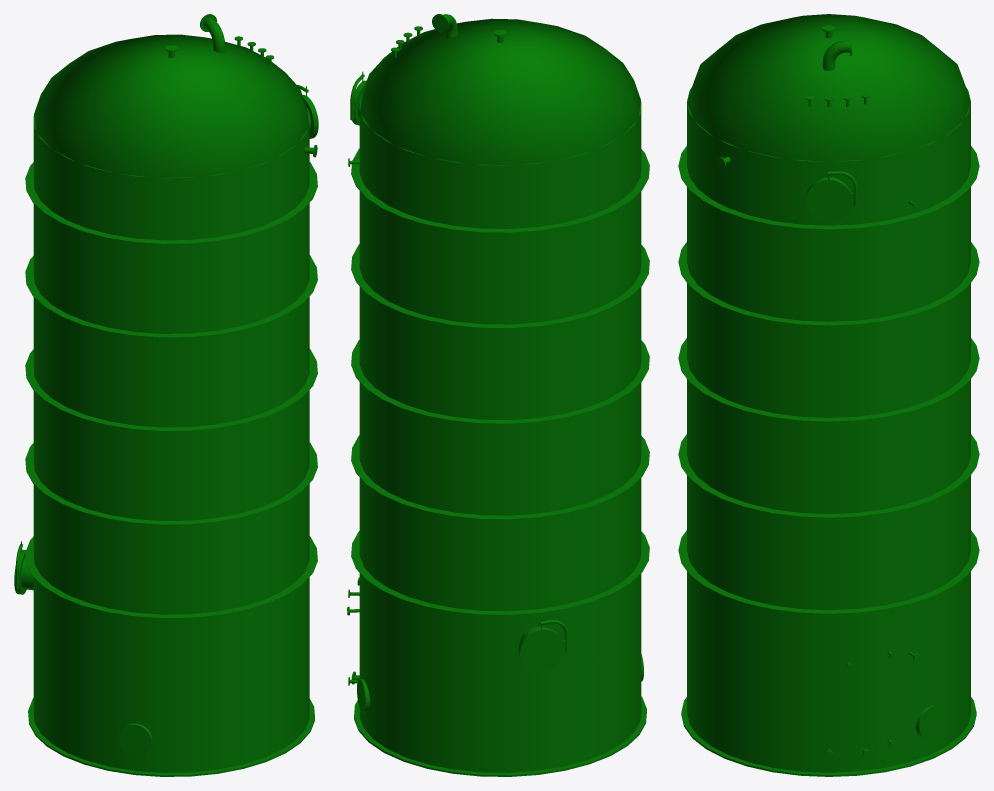
Rendered from Image-1710907768854-2281131289216_42-VL54.fbx.
The picture shows the model from 3 angles, left to right: view 1: azimuth 30°, elevation 25°; view 2: azimuth 150°, elevation 25°; view 3: azimuth 270°, elevation 25°; orthographic projection. The views are drawn at different scales.
Visible parts, largest first — view 1: CYLINDER 1 of SUBEQUIPMENT /42-VL54/PRIM, DISH 2 of SUBEQUIPMENT /42-VL54/PRIM, CYLINDER 1 of SUBEQUIPMENT /42-VL54/SKIRT, CYLINDER 2 of SUBEQUIPMENT /42-VL54/PRIM, CYLINDER 4 of SUBEQUIPMENT /42-VL54/PRIM, CYLINDER 5 of SUBEQUIPMENT /42-VL54/PRIM, CYLINDER 6 of SUBEQUIPMENT /42-VL54/PRIM, CYLINDER 3 of SUBEQUIPMENT /42-VL54/PRIM, CYLINDER 2 of SUBEQUIPMENT /42-VL54/SKIRT, CYLINDER 4 of SUBEQUIPMENT /42-VL54/SKIRT; view 2: CYLINDER 1 of SUBEQUIPMENT /42-VL54/PRIM, DISH 2 of SUBEQUIPMENT /42-VL54/PRIM, CYLINDER 1 of SUBEQUIPMENT /42-VL54/SKIRT, CYLINDER 3 of SUBEQUIPMENT /42-VL54/PRIM, CYLINDER 5 of SUBEQUIPMENT /42-VL54/PRIM, CYLINDER 2 of SUBEQUIPMENT /42-VL54/PRIM, CYLINDER 4 of SUBEQUIPMENT /42-VL54/PRIM, CYLINDER 6 of SUBEQUIPMENT /42-VL54/PRIM, CYLINDER 2 of SUBEQUIPMENT /42-VL54/SKIRT, CYLINDER 4 of SUBEQUIPMENT /42-VL54/NOZZ; view 3: CYLINDER 1 of SUBEQUIPMENT /42-VL54/PRIM, DISH 2 of SUBEQUIPMENT /42-VL54/PRIM, CYLINDER 1 of SUBEQUIPMENT /42-VL54/SKIRT, CYLINDER 2 of SUBEQUIPMENT /42-VL54/PRIM, CYLINDER 5 of SUBEQUIPMENT /42-VL54/PRIM, CYLINDER 6 of SUBEQUIPMENT /42-VL54/PRIM, CYLINDER 3 of SUBEQUIPMENT /42-VL54/PRIM, CYLINDER 4 of SUBEQUIPMENT /42-VL54/PRIM, CYLINDER 2 of SUBEQUIPMENT /42-VL54/SKIRT, CYLINDER 3 of SUBEQUIPMENT /42-VL54/NOZZ, CYLINDER 3 of SUBEQUIPMENT /42-VL54/SKIRT.
Boxes of the visible parts, x1=… form: CYLINDER 1 of SUBEQUIPMENT /42-VL54/PRIM: x1=33, y1=110, x2=309, y2=677; DISH 2 of SUBEQUIPMENT /42-VL54/PRIM: x1=34, y1=34, x2=308, y2=177; CYLINDER 1 of SUBEQUIPMENT /42-VL54/SKIRT: x1=33, y1=618, x2=309, y2=772; CYLINDER 2 of SUBEQUIPMENT /42-VL54/PRIM: x1=25, y1=536, x2=317, y2=618; CYLINDER 4 of SUBEQUIPMENT /42-VL54/PRIM: x1=25, y1=349, x2=317, y2=431; CYLINDER 5 of SUBEQUIPMENT /42-VL54/PRIM: x1=25, y1=255, x2=317, y2=337; CYLINDER 6 of SUBEQUIPMENT /42-VL54/PRIM: x1=25, y1=162, x2=317, y2=244; CYLINDER 3 of SUBEQUIPMENT /42-VL54/PRIM: x1=25, y1=442, x2=317, y2=525; CYLINDER 2 of SUBEQUIPMENT /42-VL54/SKIRT: x1=28, y1=698, x2=314, y2=776; CYLINDER 4 of SUBEQUIPMENT /42-VL54/SKIRT: x1=119, y1=723, x2=152, y2=755; CYLINDER 1 of SUBEQUIPMENT /42-VL54/PRIM: x1=359, y1=96, x2=641, y2=675; DISH 2 of SUBEQUIPMENT /42-VL54/PRIM: x1=360, y1=18, x2=640, y2=165; CYLINDER 1 of SUBEQUIPMENT /42-VL54/SKIRT: x1=359, y1=615, x2=641, y2=772; CYLINDER 3 of SUBEQUIPMENT /42-VL54/PRIM: x1=351, y1=435, x2=649, y2=519; CYLINDER 5 of SUBEQUIPMENT /42-VL54/PRIM: x1=351, y1=244, x2=649, y2=328; CYLINDER 2 of SUBEQUIPMENT /42-VL54/PRIM: x1=351, y1=531, x2=649, y2=615; CYLINDER 4 of SUBEQUIPMENT /42-VL54/PRIM: x1=351, y1=340, x2=649, y2=424; CYLINDER 6 of SUBEQUIPMENT /42-VL54/PRIM: x1=351, y1=148, x2=649, y2=233; CYLINDER 2 of SUBEQUIPMENT /42-VL54/SKIRT: x1=354, y1=696, x2=646, y2=776; CYLINDER 4 of SUBEQUIPMENT /42-VL54/NOZZ: x1=519, y1=628, x2=563, y2=671; CYLINDER 1 of SUBEQUIPMENT /42-VL54/PRIM: x1=687, y1=87, x2=970, y2=674; DISH 2 of SUBEQUIPMENT /42-VL54/PRIM: x1=687, y1=14, x2=970, y2=161; CYLINDER 1 of SUBEQUIPMENT /42-VL54/SKIRT: x1=687, y1=616, x2=970, y2=772; CYLINDER 2 of SUBEQUIPMENT /42-VL54/PRIM: x1=678, y1=530, x2=979, y2=614; CYLINDER 5 of SUBEQUIPMENT /42-VL54/PRIM: x1=678, y1=242, x2=979, y2=325; CYLINDER 6 of SUBEQUIPMENT /42-VL54/PRIM: x1=678, y1=146, x2=979, y2=229; CYLINDER 3 of SUBEQUIPMENT /42-VL54/PRIM: x1=678, y1=434, x2=979, y2=518; CYLINDER 4 of SUBEQUIPMENT /42-VL54/PRIM: x1=678, y1=338, x2=979, y2=422; CYLINDER 2 of SUBEQUIPMENT /42-VL54/SKIRT: x1=681, y1=697, x2=976, y2=776; CYLINDER 3 of SUBEQUIPMENT /42-VL54/NOZZ: x1=806, y1=179, x2=851, y2=221; CYLINDER 3 of SUBEQUIPMENT /42-VL54/SKIRT: x1=916, y1=705, x2=943, y2=739.
Size of the model in its own units: 5.52 by 5.32 by 13.67.
